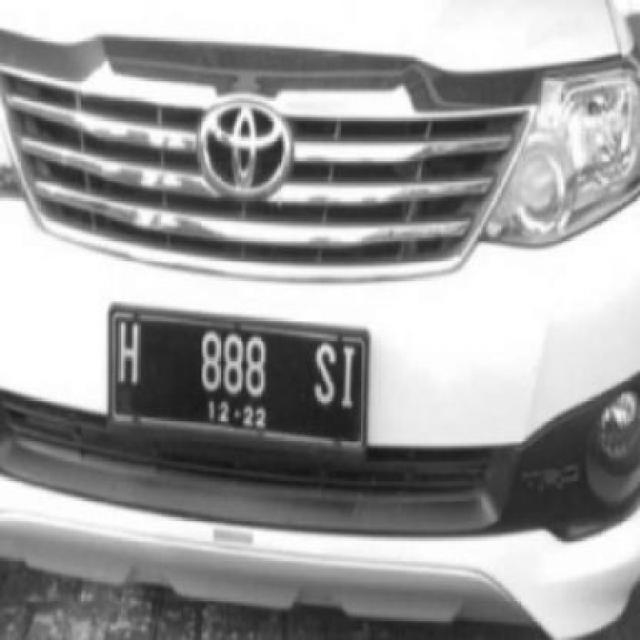8: (193, 328, 224, 397), (220, 332, 244, 404), (241, 340, 272, 395)
H: (108, 318, 148, 390)
I: (333, 347, 368, 412)
S: (307, 342, 338, 414)
